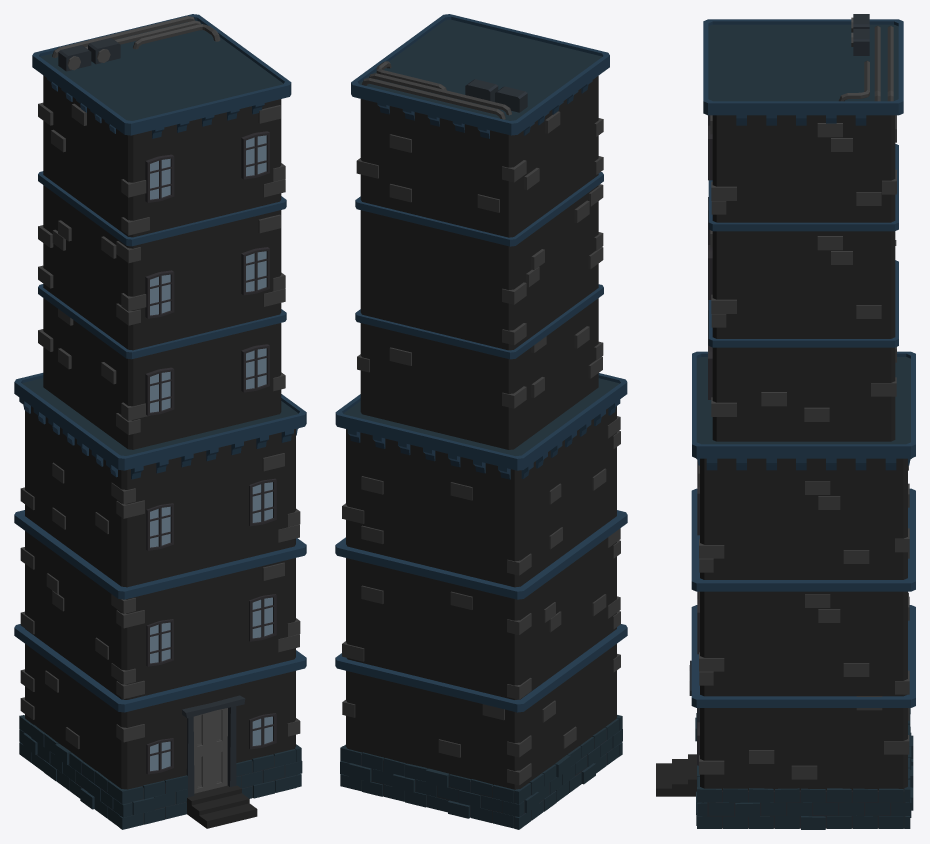
Rendered from quat_6story_stack.glb.
3 views of the same model, side by side, from view 1: azimuth 30°, elevation 25°; view 2: azimuth 150°, elevation 25°; view 3: azimuth 270°, elevation 25° (orthographic). The views are drawn at different scales.
Parts seen in each view (by area): view 1: 6Story_Stack_Cube.137; view 2: 6Story_Stack_Cube.137; view 3: 6Story_Stack_Cube.137.
Part boxes in pixels (x1=…): 6Story_Stack_Cube.137: x1=14, y1=14, x2=306, y2=829; 6Story_Stack_Cube.137: x1=335, y1=14, x2=627, y2=829; 6Story_Stack_Cube.137: x1=656, y1=14, x2=915, y2=829.
Bounding box in the file's own units: 2.16 × 7.8 × 2.5.
Materials: 1 (1 with a texture image).
